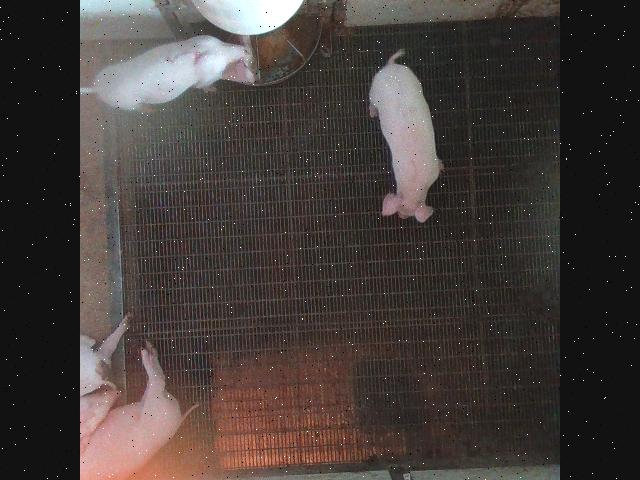pig-5: (82, 34, 256, 109)
